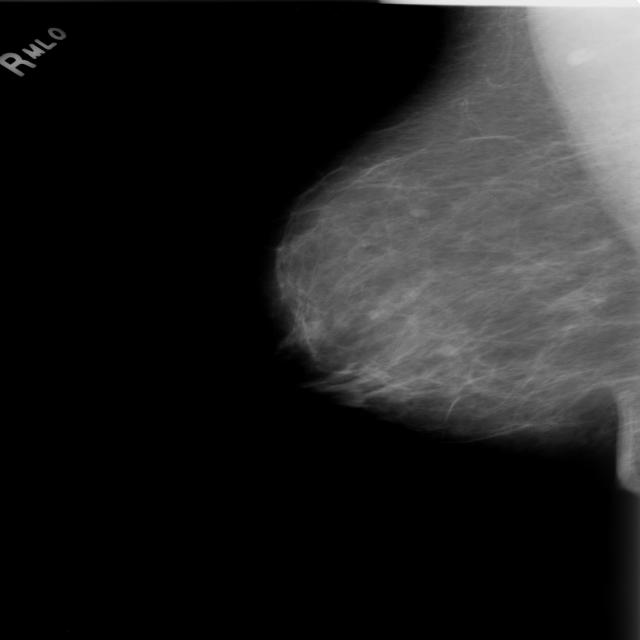cancer: (251, 282, 424, 413)
